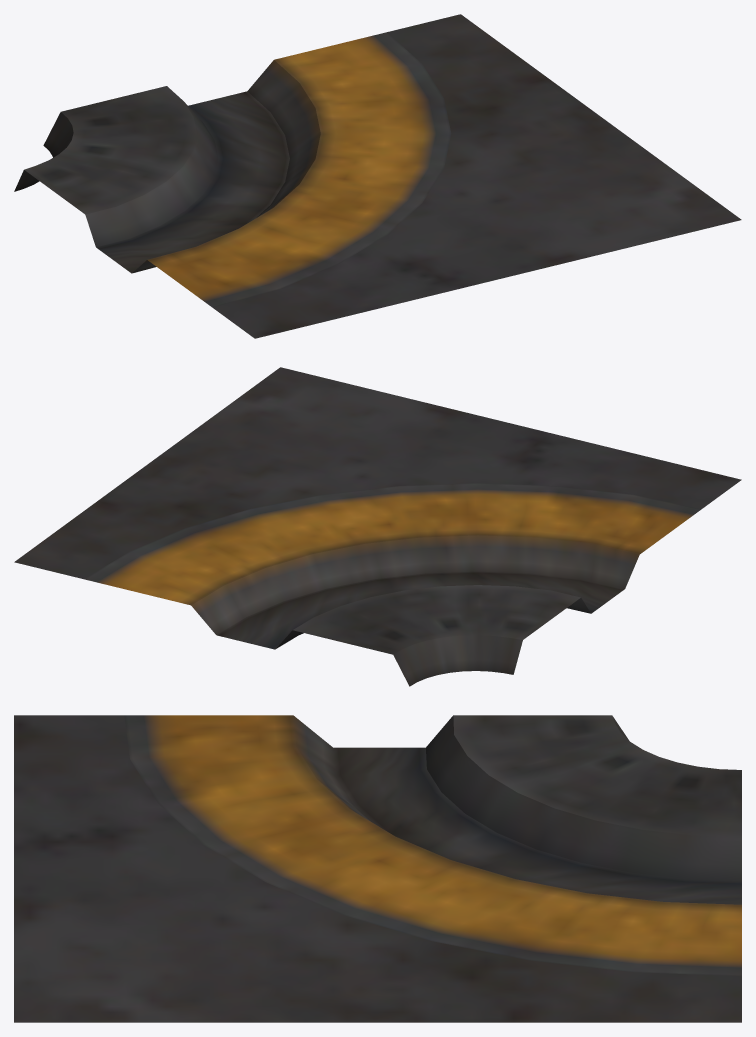
Rendered from lab_floor_welder_concave_tiny.dae.
The picture shows the model from 3 angles, top to bottom: view 1: azimuth 30°, elevation 25°; view 2: azimuth 150°, elevation 25°; view 3: azimuth 270°, elevation 25°; orthographic projection. The views are drawn at different scales.
Parts seen in each view (by area): view 1: floor_welder_concave_tiny; view 2: floor_welder_concave_tiny; view 3: floor_welder_concave_tiny.
Part boxes in pixels (x1,y1,x2,y2): floor_welder_concave_tiny: (14, 14, 741, 338); floor_welder_concave_tiny: (14, 367, 741, 686); floor_welder_concave_tiny: (14, 715, 741, 1022).
Size of the model in its own units: 0.4375 by 0.0254 by 0.4375.
